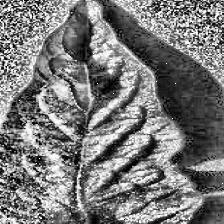spider mites: (0, 0, 201, 224)
